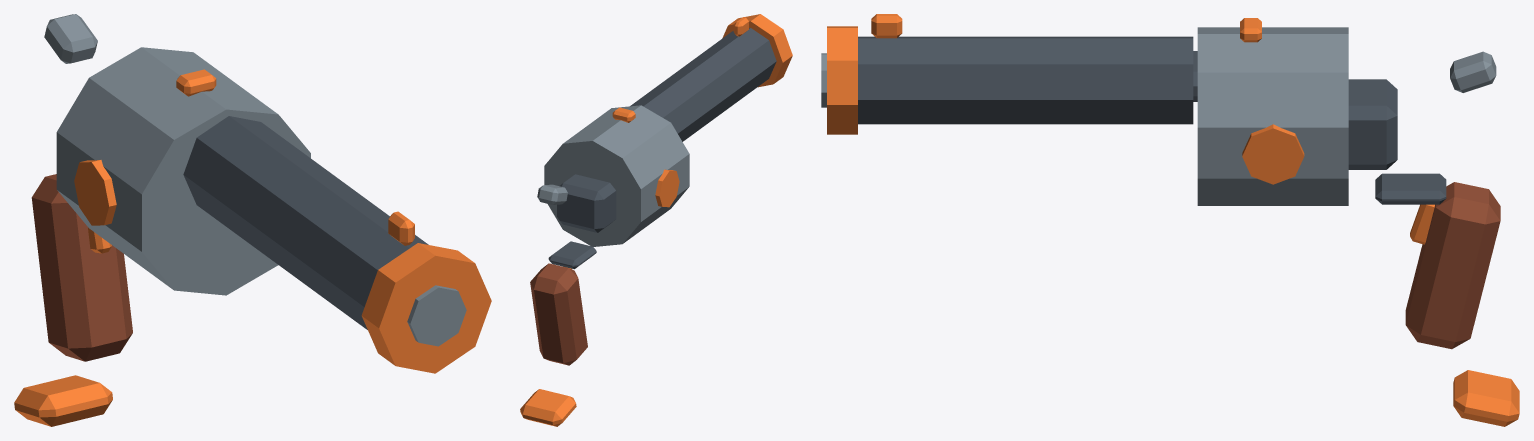
The model's file is LowPoly_Revolver.glb.
3 renders of one model, left to right at view 1: azimuth 30°, elevation 25°; view 2: azimuth 150°, elevation 25°; view 3: azimuth 270°, elevation 25°, orthographic. The views are drawn at different scales.
Parts seen in each view (by area): view 1: Cylinder, Barrel, GripCore, MuzzleRing, GripBottom, MuzzleHole, CylinderHubLeft, Hammer, RearSight, FrontSight; view 2: Cylinder, Barrel, GripCore, MainFrame, MuzzleRing, GripBottom, TriggerGuardTop, CylinderHubLeft, Hammer, RearSight; view 3: Barrel, Cylinder, GripCore, MainFrame, MuzzleRing, GripBottom, CylinderHubRight, TriggerGuardTop, Hammer, FrontSight, Trigger.
Part boxes in pixels (x1=…): Cylinder: x1=56, y1=47, x2=310, y2=295; Barrel: x1=183, y1=116, x2=428, y2=329; GripCore: x1=31, y1=174, x2=132, y2=361; MuzzleRing: x1=361, y1=243, x2=491, y2=373; GripBottom: x1=14, y1=375, x2=112, y2=426; MuzzleHole: x1=407, y1=285, x2=466, y2=346; CylinderHubLeft: x1=74, y1=160, x2=116, y2=225; Hammer: x1=44, y1=14, x2=97, y2=63; RearSight: x1=176, y1=69, x2=216, y2=96; FrontSight: x1=388, y1=211, x2=414, y2=245; Cylinder: x1=544, y1=105, x2=689, y2=246; Barrel: x1=630, y1=28, x2=776, y2=141; GripCore: x1=530, y1=263, x2=587, y2=365; MainFrame: x1=557, y1=174, x2=616, y2=232; MuzzleRing: x1=722, y1=14, x2=792, y2=87; GripBottom: x1=520, y1=389, x2=576, y2=426; TriggerGuardTop: x1=548, y1=241, x2=596, y2=269; CylinderHubLeft: x1=655, y1=169, x2=679, y2=207; Hammer: x1=537, y1=184, x2=567, y2=204; RearSight: x1=612, y1=107, x2=635, y2=122; Barrel: x1=858, y1=36, x2=1193, y2=124; Cylinder: x1=1197, y1=27, x2=1348, y2=205; GripCore: x1=1405, y1=182, x2=1500, y2=349; MainFrame: x1=1348, y1=79, x2=1397, y2=169; MuzzleRing: x1=827, y1=26, x2=857, y2=134; GripBottom: x1=1453, y1=370, x2=1519, y2=426; CylinderHubRight: x1=1242, y1=124, x2=1304, y2=184; TriggerGuardTop: x1=1375, y1=173, x2=1446, y2=204; Hammer: x1=1450, y1=51, x2=1496, y2=92; FrontSight: x1=871, y1=14, x2=902, y2=38; Trigger: x1=1410, y1=204, x2=1434, y2=244.
Bounding box in the file's own units: 0.425 × 0.9954 × 1.57.
